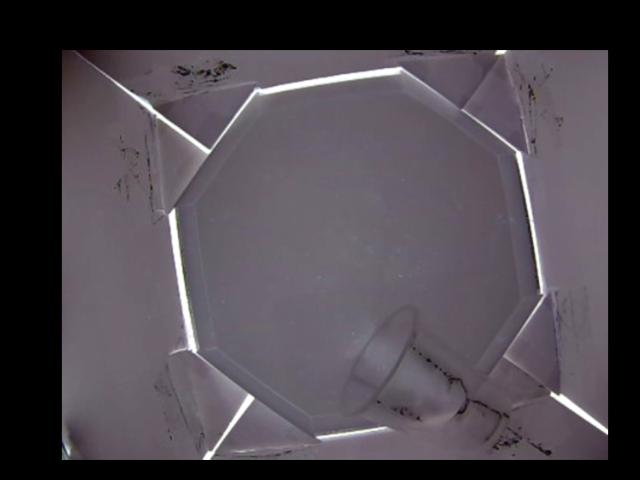Cup: (339, 304, 512, 455)
